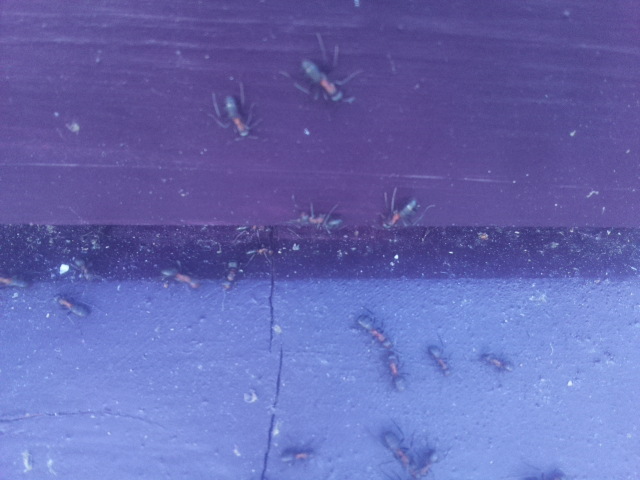ant: (294, 46, 355, 113), (213, 86, 258, 146), (348, 309, 397, 355), (378, 428, 420, 474), (376, 191, 422, 230), (152, 264, 206, 292), (422, 339, 454, 382), (218, 259, 246, 294), (52, 292, 87, 319)
